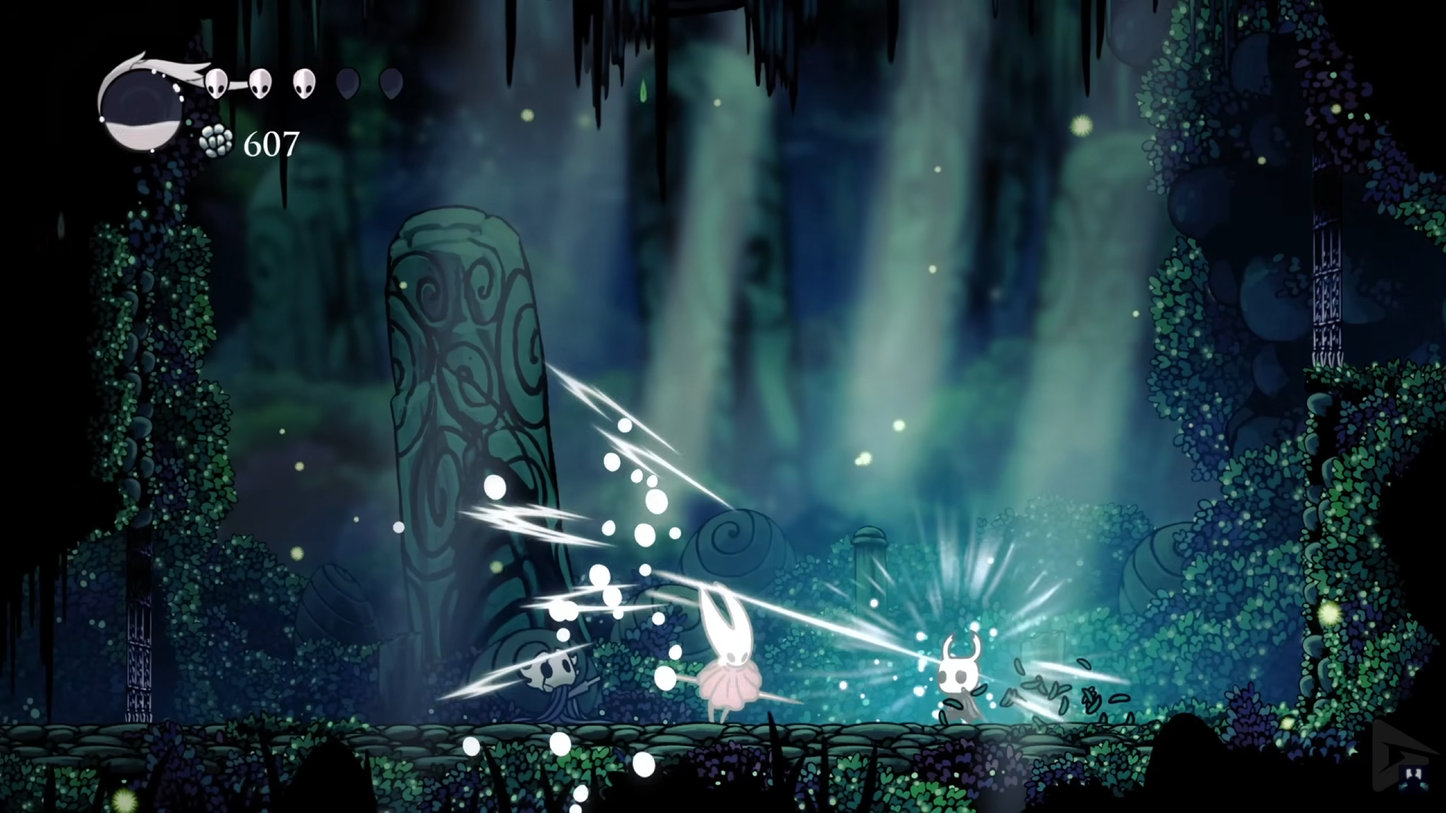HK: (926, 629, 991, 725)
